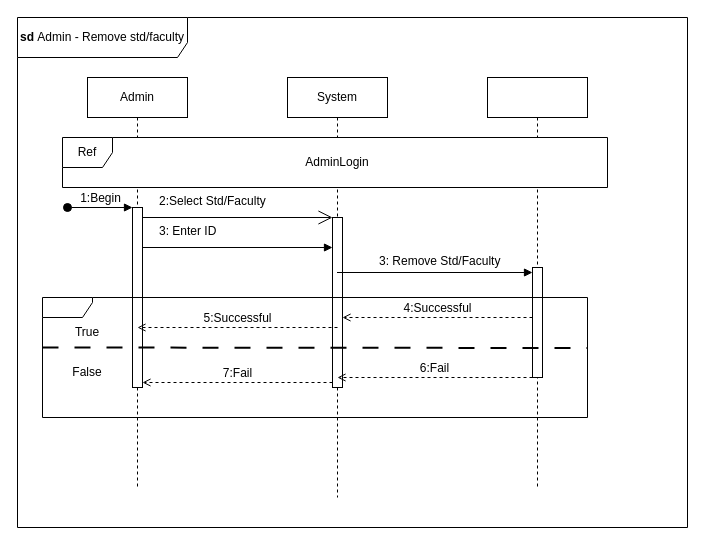
Image size: 705x545. Some labels were removed from this diagram. Each missing label, with the centre of its shape:
"alt" goes at point (315, 357).
"Database" goes at point (537, 282).
